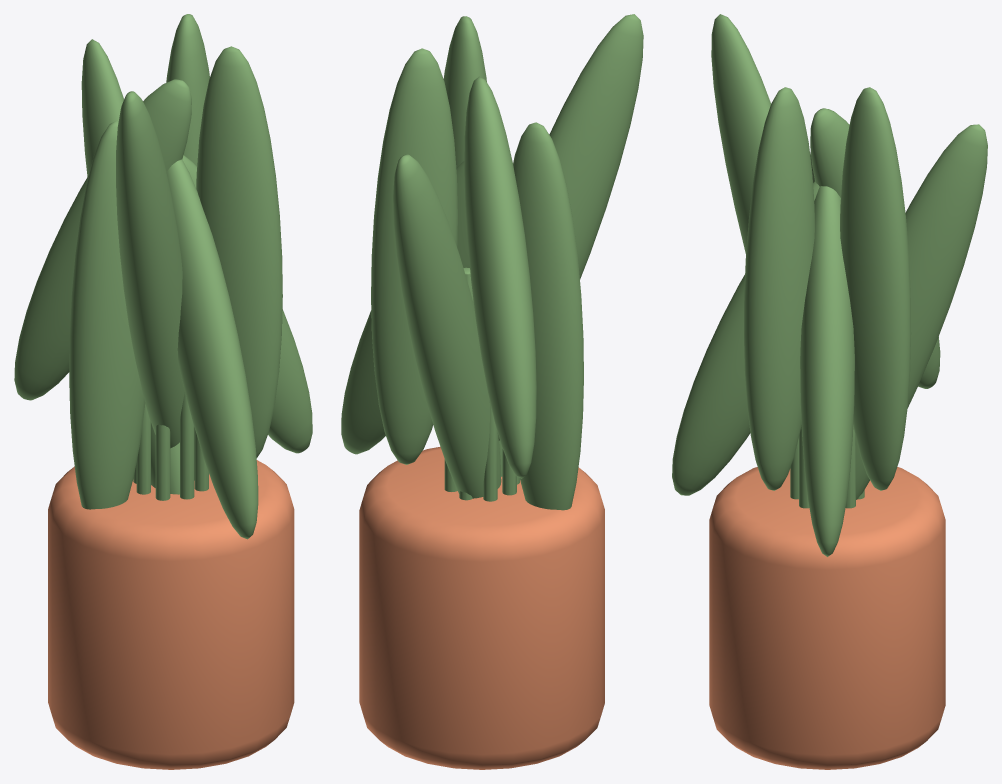
Rendered from plant-tall.glb.
The picture shows the model from 3 angles, left to right: view 1: azimuth 30°, elevation 25°; view 2: azimuth 150°, elevation 25°; view 3: azimuth 270°, elevation 25°; orthographic projection. The views are drawn at different scales.
Visible parts, largest first — view 1: pot, leaf-7, leaf-4.001, leaf-6, leaf-5, leaf-3.001, leaf-2.001, leaf-0.001, leaf-1.001, stem-6, stem-5, stem-4 (+1 smaller); view 2: pot, leaf-2.001, leaf-3.001, leaf-4.001, leaf-1.001, leaf-5, leaf-0.001, leaf-7, stem-3; view 3: pot, leaf-7, leaf-1.001, leaf-0.001, leaf-2.001, leaf-6, leaf-5, leaf-3.001.
Part boxes in pixels (left/top/right/bottom): pot: left=48, top=460, right=294, bottom=769; leaf-7: left=196, top=46, right=282, bottom=457; leaf-4.001: left=69, top=120, right=145, bottom=509; leaf-6: left=166, top=159, right=258, bottom=539; leaf-5: left=116, top=91, right=184, bottom=448; leaf-3.001: left=14, top=79, right=191, bottom=400; leaf-2.001: left=81, top=39, right=179, bottom=494; leaf-0.001: left=182, top=155, right=312, bottom=453; leaf-1.001: left=166, top=14, right=209, bottom=166; stem-6: left=180, top=392, right=194, bottom=499; stem-5: left=155, top=424, right=170, bottom=500; stem-4: left=136, top=404, right=150, bottom=494; pot: left=359, top=446, right=604, bottom=769; leaf-2.001: left=393, top=154, right=501, bottom=498; leaf-3.001: left=464, top=76, right=536, bottom=478; leaf-4.001: left=513, top=122, right=583, bottom=510; leaf-1.001: left=371, top=48, right=457, bottom=464; leaf-5: left=497, top=14, right=643, bottom=440; leaf-0.001: left=341, top=161, right=469, bottom=454; leaf-7: left=443, top=16, right=486, bottom=168; stem-3: left=483, top=400, right=497, bottom=501; pot: left=709, top=467, right=945, bottom=769; leaf-7: left=744, top=87, right=814, bottom=490; leaf-1.001: left=840, top=87, right=911, bottom=490; leaf-0.001: left=800, top=186, right=854, bottom=556; leaf-2.001: left=855, top=124, right=987, bottom=499; leaf-6: left=672, top=181, right=840, bottom=495; leaf-5: left=711, top=14, right=770, bottom=253; leaf-3.001: left=810, top=108, right=940, bottom=388.
Size of the model in its own units: 0.4538 by 1.22 by 0.5239.
